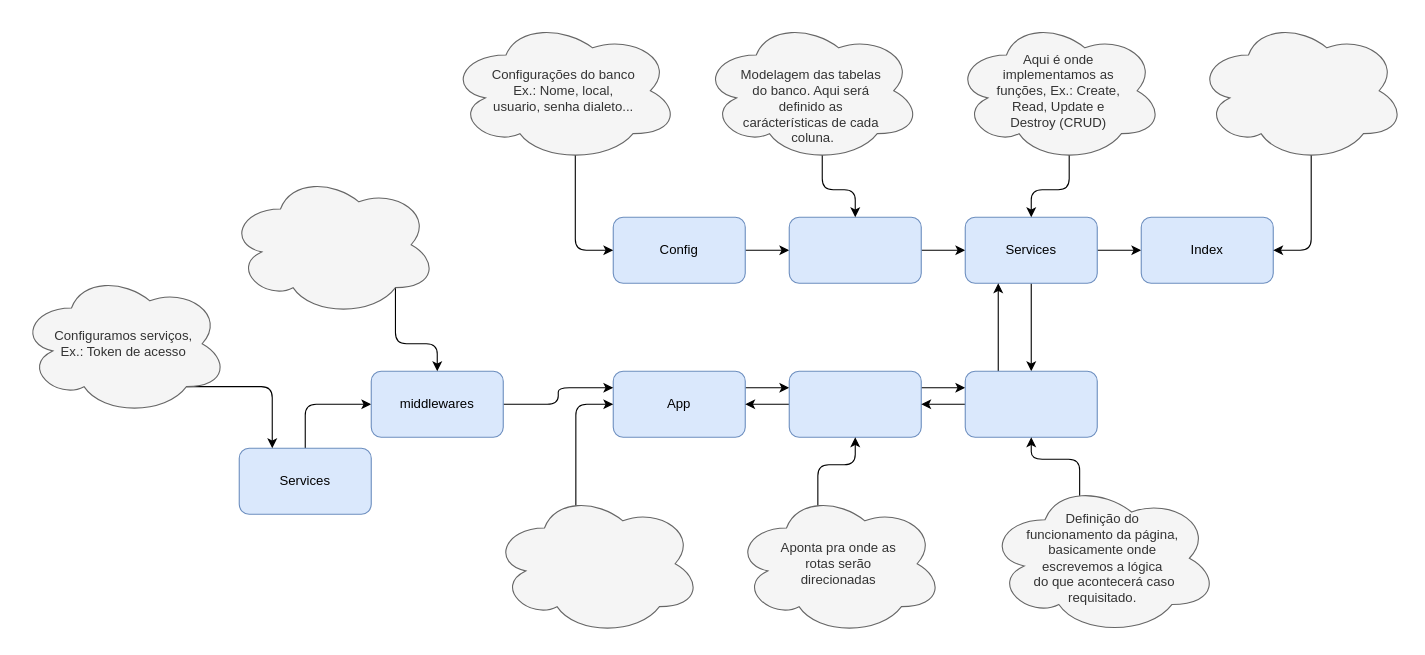
This 1425x655 diagram has some shape labels left out. The centre of each missing label's shape, as x and y in pixels:
"Controller" belongs at [1030,403].
"Definição das rotas e configurações do nosso servidor" belongs at [596,563].
"Descentralizamos responsabilidades como a lógica do Token de acesso por exemplo." belongs at [332,244].
"Importamos as configurações e serviços e sincronizamos com o banco." belongs at [1300,90].
"Models" belongs at [854,249].
"Routers" belongs at [854,403].
